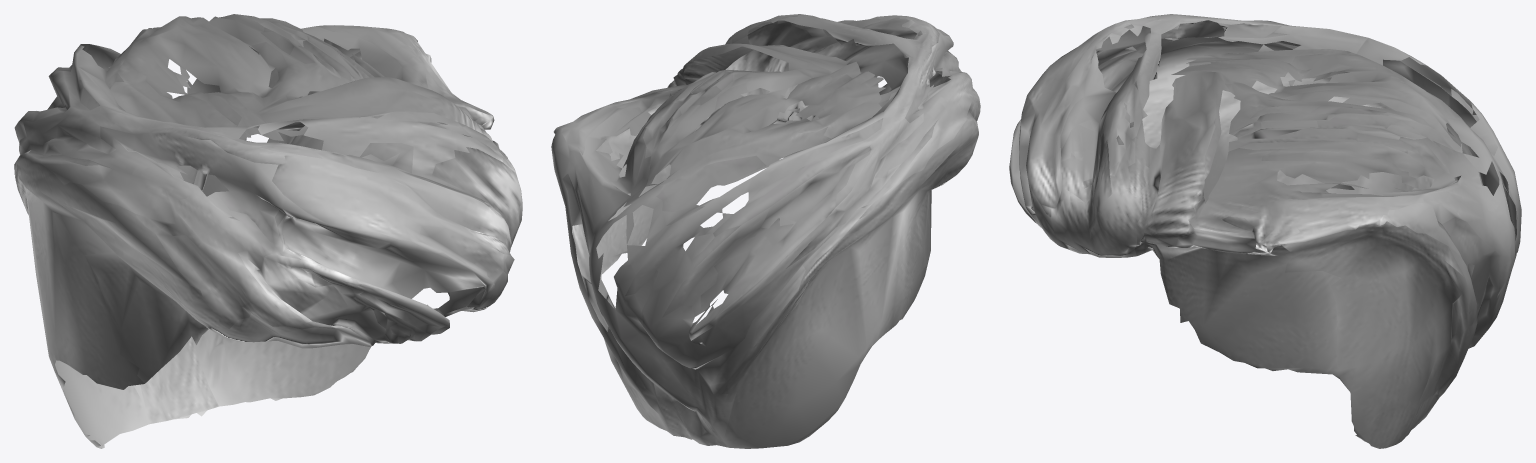
File: quiff.glb
3 renders of one model, left to right at view 1: azimuth 30°, elevation 25°; view 2: azimuth 150°, elevation 25°; view 3: azimuth 270°, elevation 25°, orthographic. The views are drawn at different scales.
Visible parts, largest first — view 1: quiff; view 2: quiff; view 3: quiff.
Part boxes in pixels (bbox=[...]): quiff: bbox=[14, 14, 522, 448]; quiff: bbox=[551, 14, 980, 448]; quiff: bbox=[1009, 14, 1521, 448].
Bounding box in the file's own units: 0.1944 × 0.1912 × 0.2548.
Materials: 1 (1 with a texture image).
